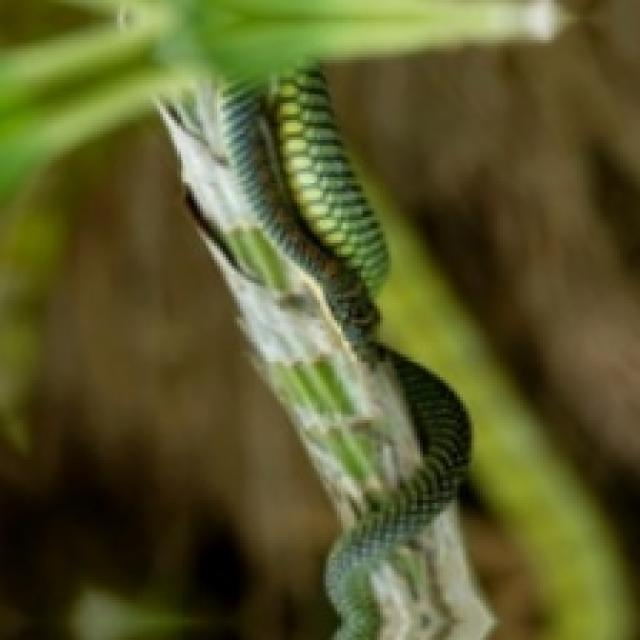paradise tree snake: (220, 68, 470, 639)
